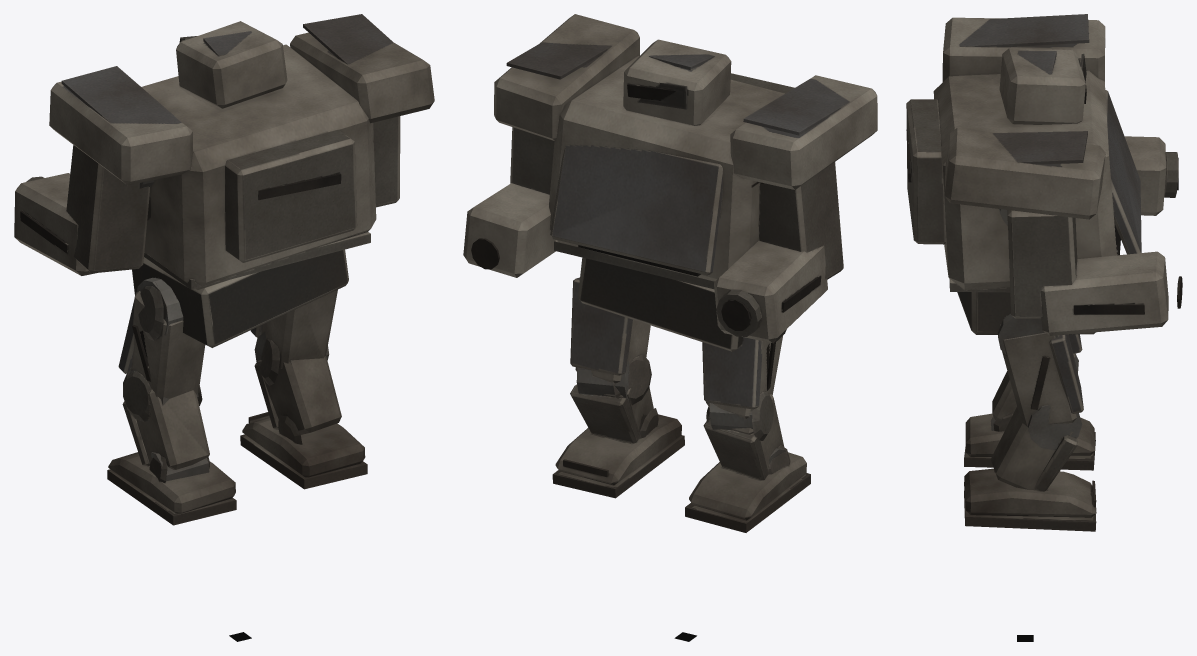
The model's file is ord_picket_wreck.fbx.
3 views of the same model, side by side, from view 1: azimuth 30°, elevation 25°; view 2: azimuth 150°, elevation 25°; view 3: azimuth 270°, elevation 25° (orthographic). The views are drawn at different scales.
Visible parts, largest first — view 1: torso_bar, base_bar, thighL_bar, footR_bar, shinL_bar, footL_bar, shinR_bar, thighR_bar; view 2: torso_bar, base_bar, thighR_bar, thighL_bar, footR_bar, footL_bar, shinL_bar, shinR_bar; view 3: torso_bar, thighR_bar, footR_bar, shinR_bar, footL_bar, base_bar, shinL_bar.
Part boxes in pixels (x1,y1,x2,y2): torso_bar: (14, 14, 434, 289); base_bar: (132, 249, 348, 347); thighL_bar: (118, 277, 205, 421); footR_bar: (240, 412, 367, 489); shinL_bar: (122, 389, 209, 482); footL_bar: (107, 452, 236, 525); shinR_bar: (254, 356, 341, 444); thighR_bar: (250, 289, 337, 385); torso_bar: (463, 14, 877, 342); base_bar: (578, 257, 743, 351); thighR_bar: (570, 277, 651, 405); thighL_bar: (702, 329, 786, 440); footR_bar: (552, 414, 684, 498); footL_bar: (685, 452, 810, 532); shinL_bar: (703, 394, 790, 480); shinR_bar: (570, 384, 658, 443); torso_bar: (906, 14, 1182, 335); thighR_bar: (998, 313, 1083, 449); footR_bar: (964, 468, 1096, 531); shinR_bar: (990, 406, 1077, 491); footL_bar: (964, 413, 1095, 470); base_bar: (957, 292, 1095, 334); shinL_bar: (990, 371, 1016, 431).
Size of the model in its own units: 428 by 756 by 327.
2 materials, 2 textured.
